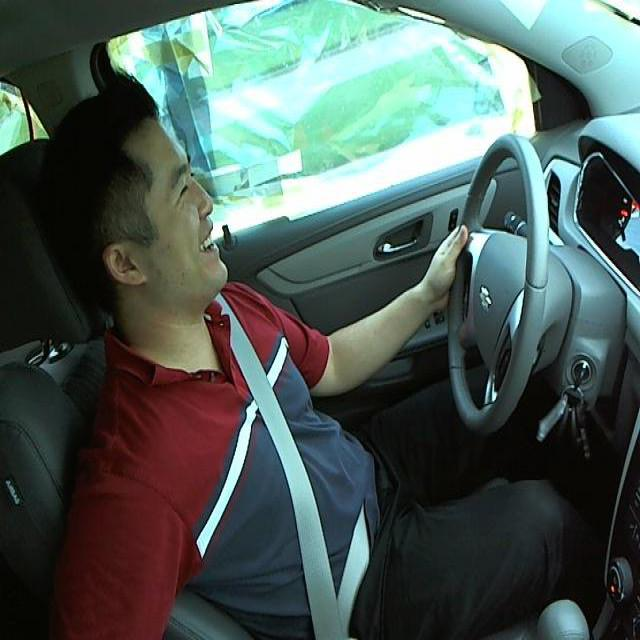seatbelt: (217, 336, 375, 625)
